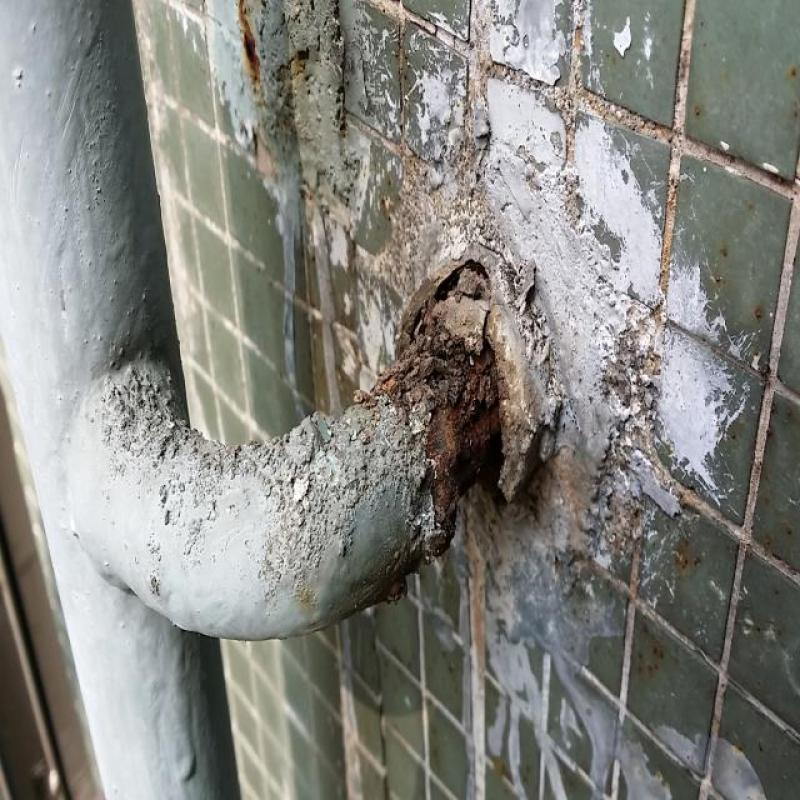corrosion: (372, 265, 602, 513)
